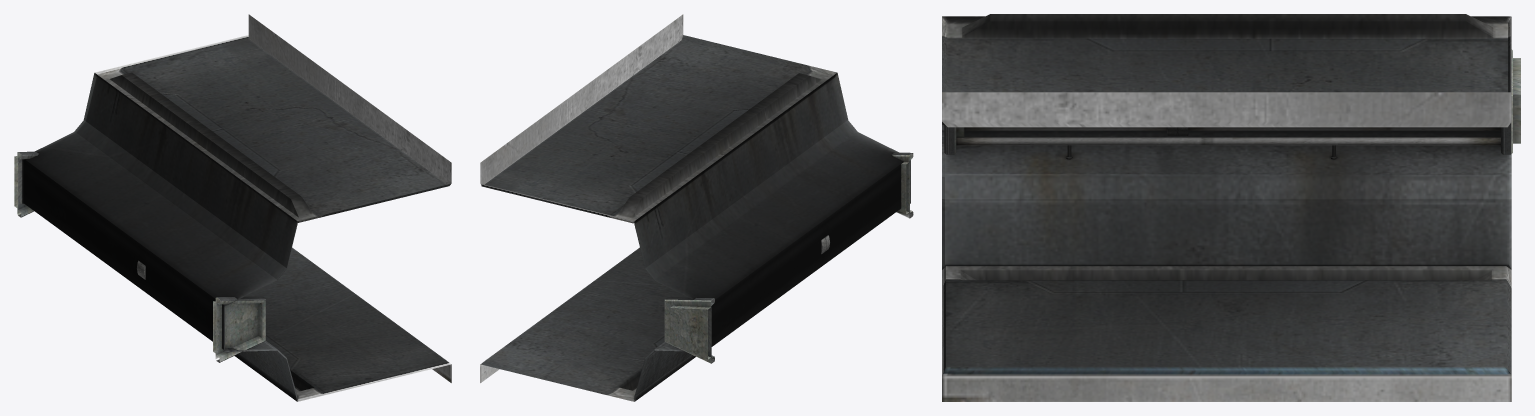
Rendered from Shart_Short.fbx.
3 renders of one model, left to right at view 1: azimuth 30°, elevation 25°; view 2: azimuth 150°, elevation 25°; view 3: azimuth 270°, elevation 25°, orthographic. The views are drawn at different scales.
Parts seen in each view (by area): view 1: Shart_Short; view 2: Shart_Short; view 3: Shart_Short.
Part boxes in pixels (left/top/right/bottom): Shart_Short: left=14, top=14, right=451, bottom=401; Shart_Short: left=480, top=14, right=913, bottom=401; Shart_Short: left=942, top=14, right=1520, bottom=401.
Bounding box in the file's own units: 65.8 × 60.14 × 102.
